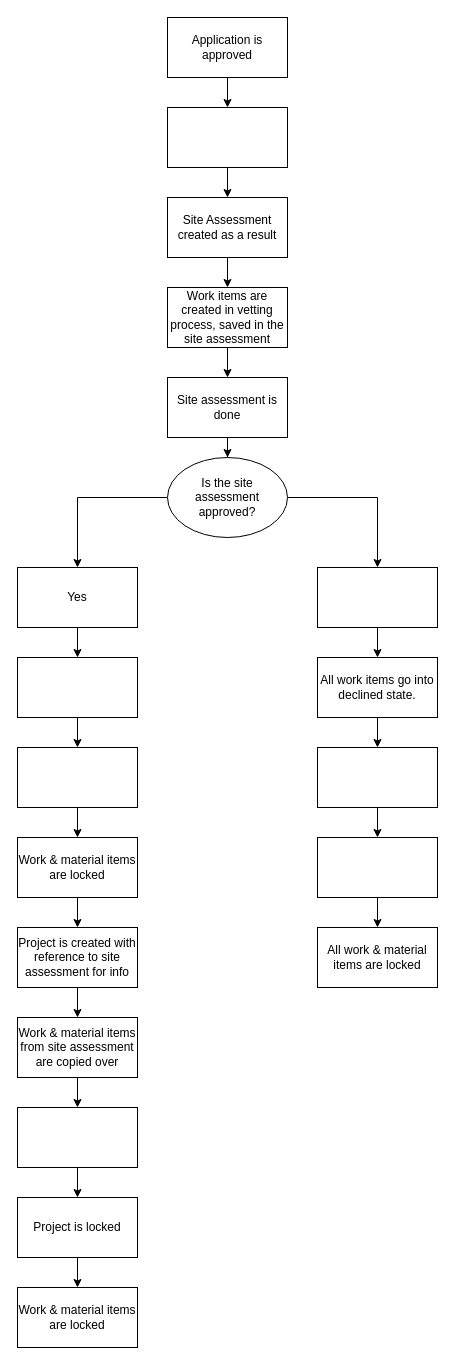
Some shapes in this 455 by 1365 pixel diagram are drawn without their labels. The centre of each missing label's shape, as x and y in pixels:
No: (377,597)
Project is completed: (77,1137)
Site assessment goes into approval complete/ declined state: (377,777)
Site assessment goes into transfer page: (77,687)
Site assessment is locked: (377,867)
Transfer occurs: site assessment is locked.: (77,777)
Vetting worksheet opens the application: (227,137)
